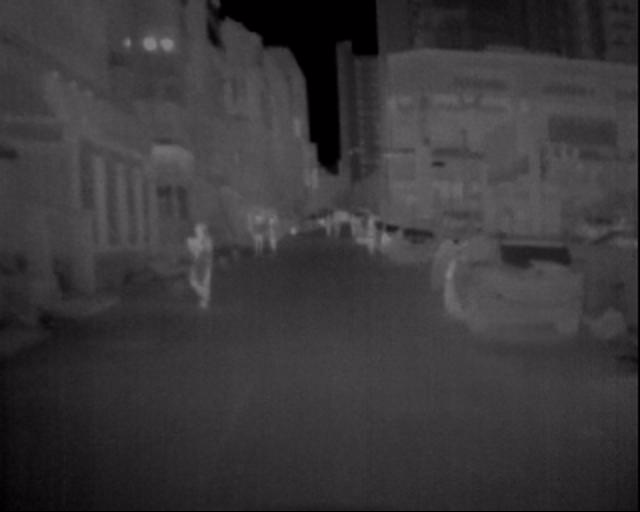person: (186, 219, 224, 317), (246, 211, 275, 269), (359, 215, 389, 267), (265, 210, 289, 272)
